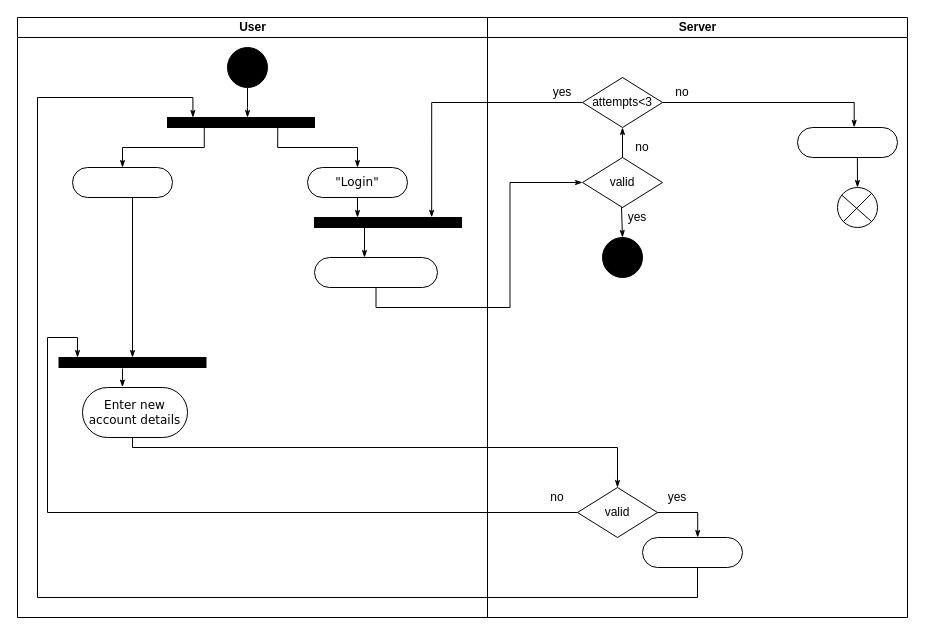
This 925x635 diagram has some shape labels left out. Each missing label, with the centre of its shape:
"Register": (122,182)
Enter login and password: (376,272)
lock account: (847,142)
Save user to database: (692,552)
